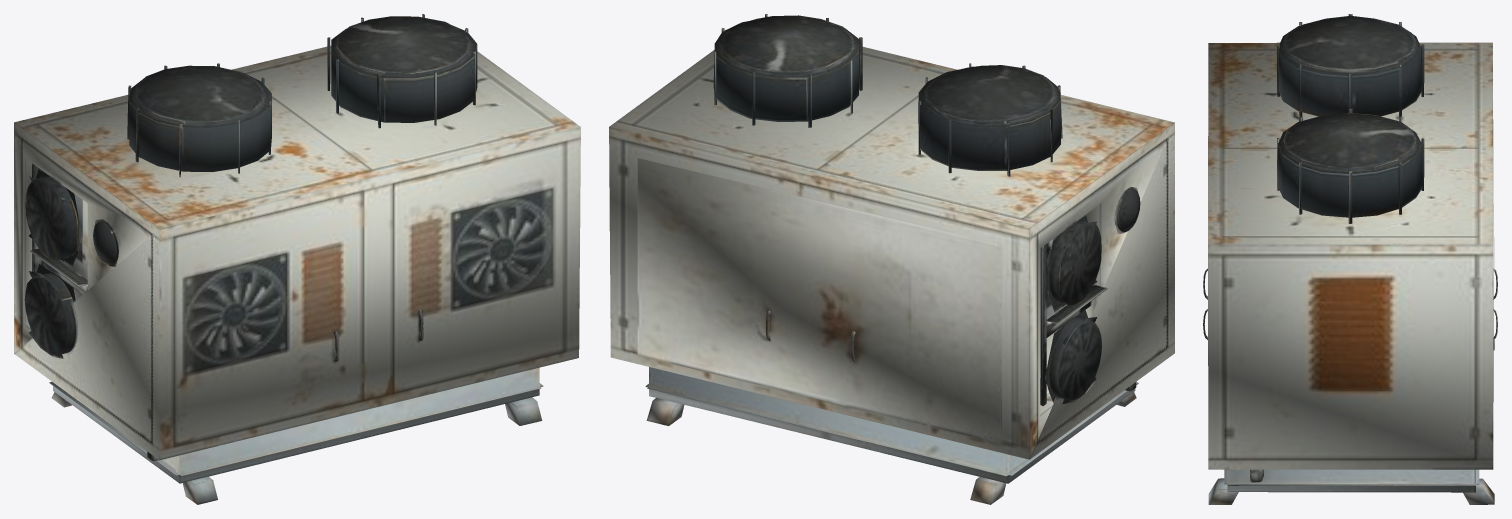
Rendered from ac_rooftop.glb.
3 views of the same model, side by side, from view 1: azimuth 30°, elevation 25°; view 2: azimuth 150°, elevation 25°; view 3: azimuth 270°, elevation 25° (orthographic). The views are drawn at different scales.
Size of the model in its own units: 2.4 by 1.84 by 1.45.
Materials: 1 (1 with a texture image).
